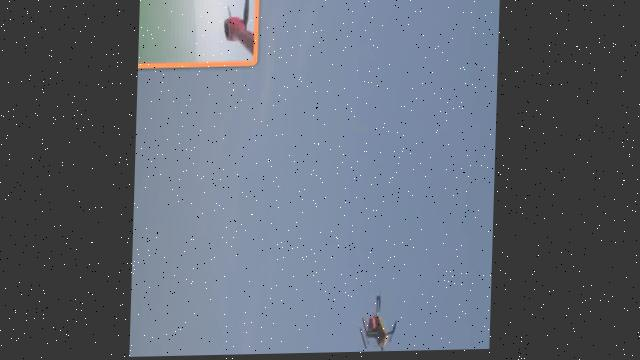drone: (354, 295, 412, 354)
